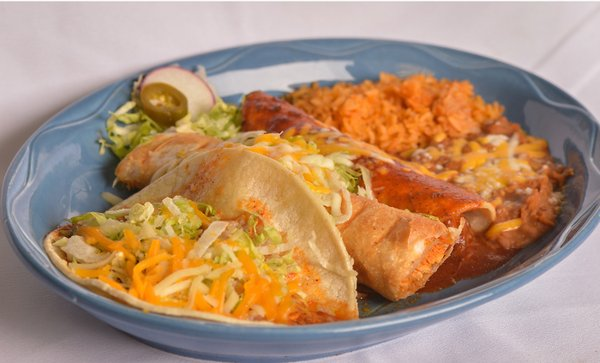curry: (1, 4, 596, 363)
